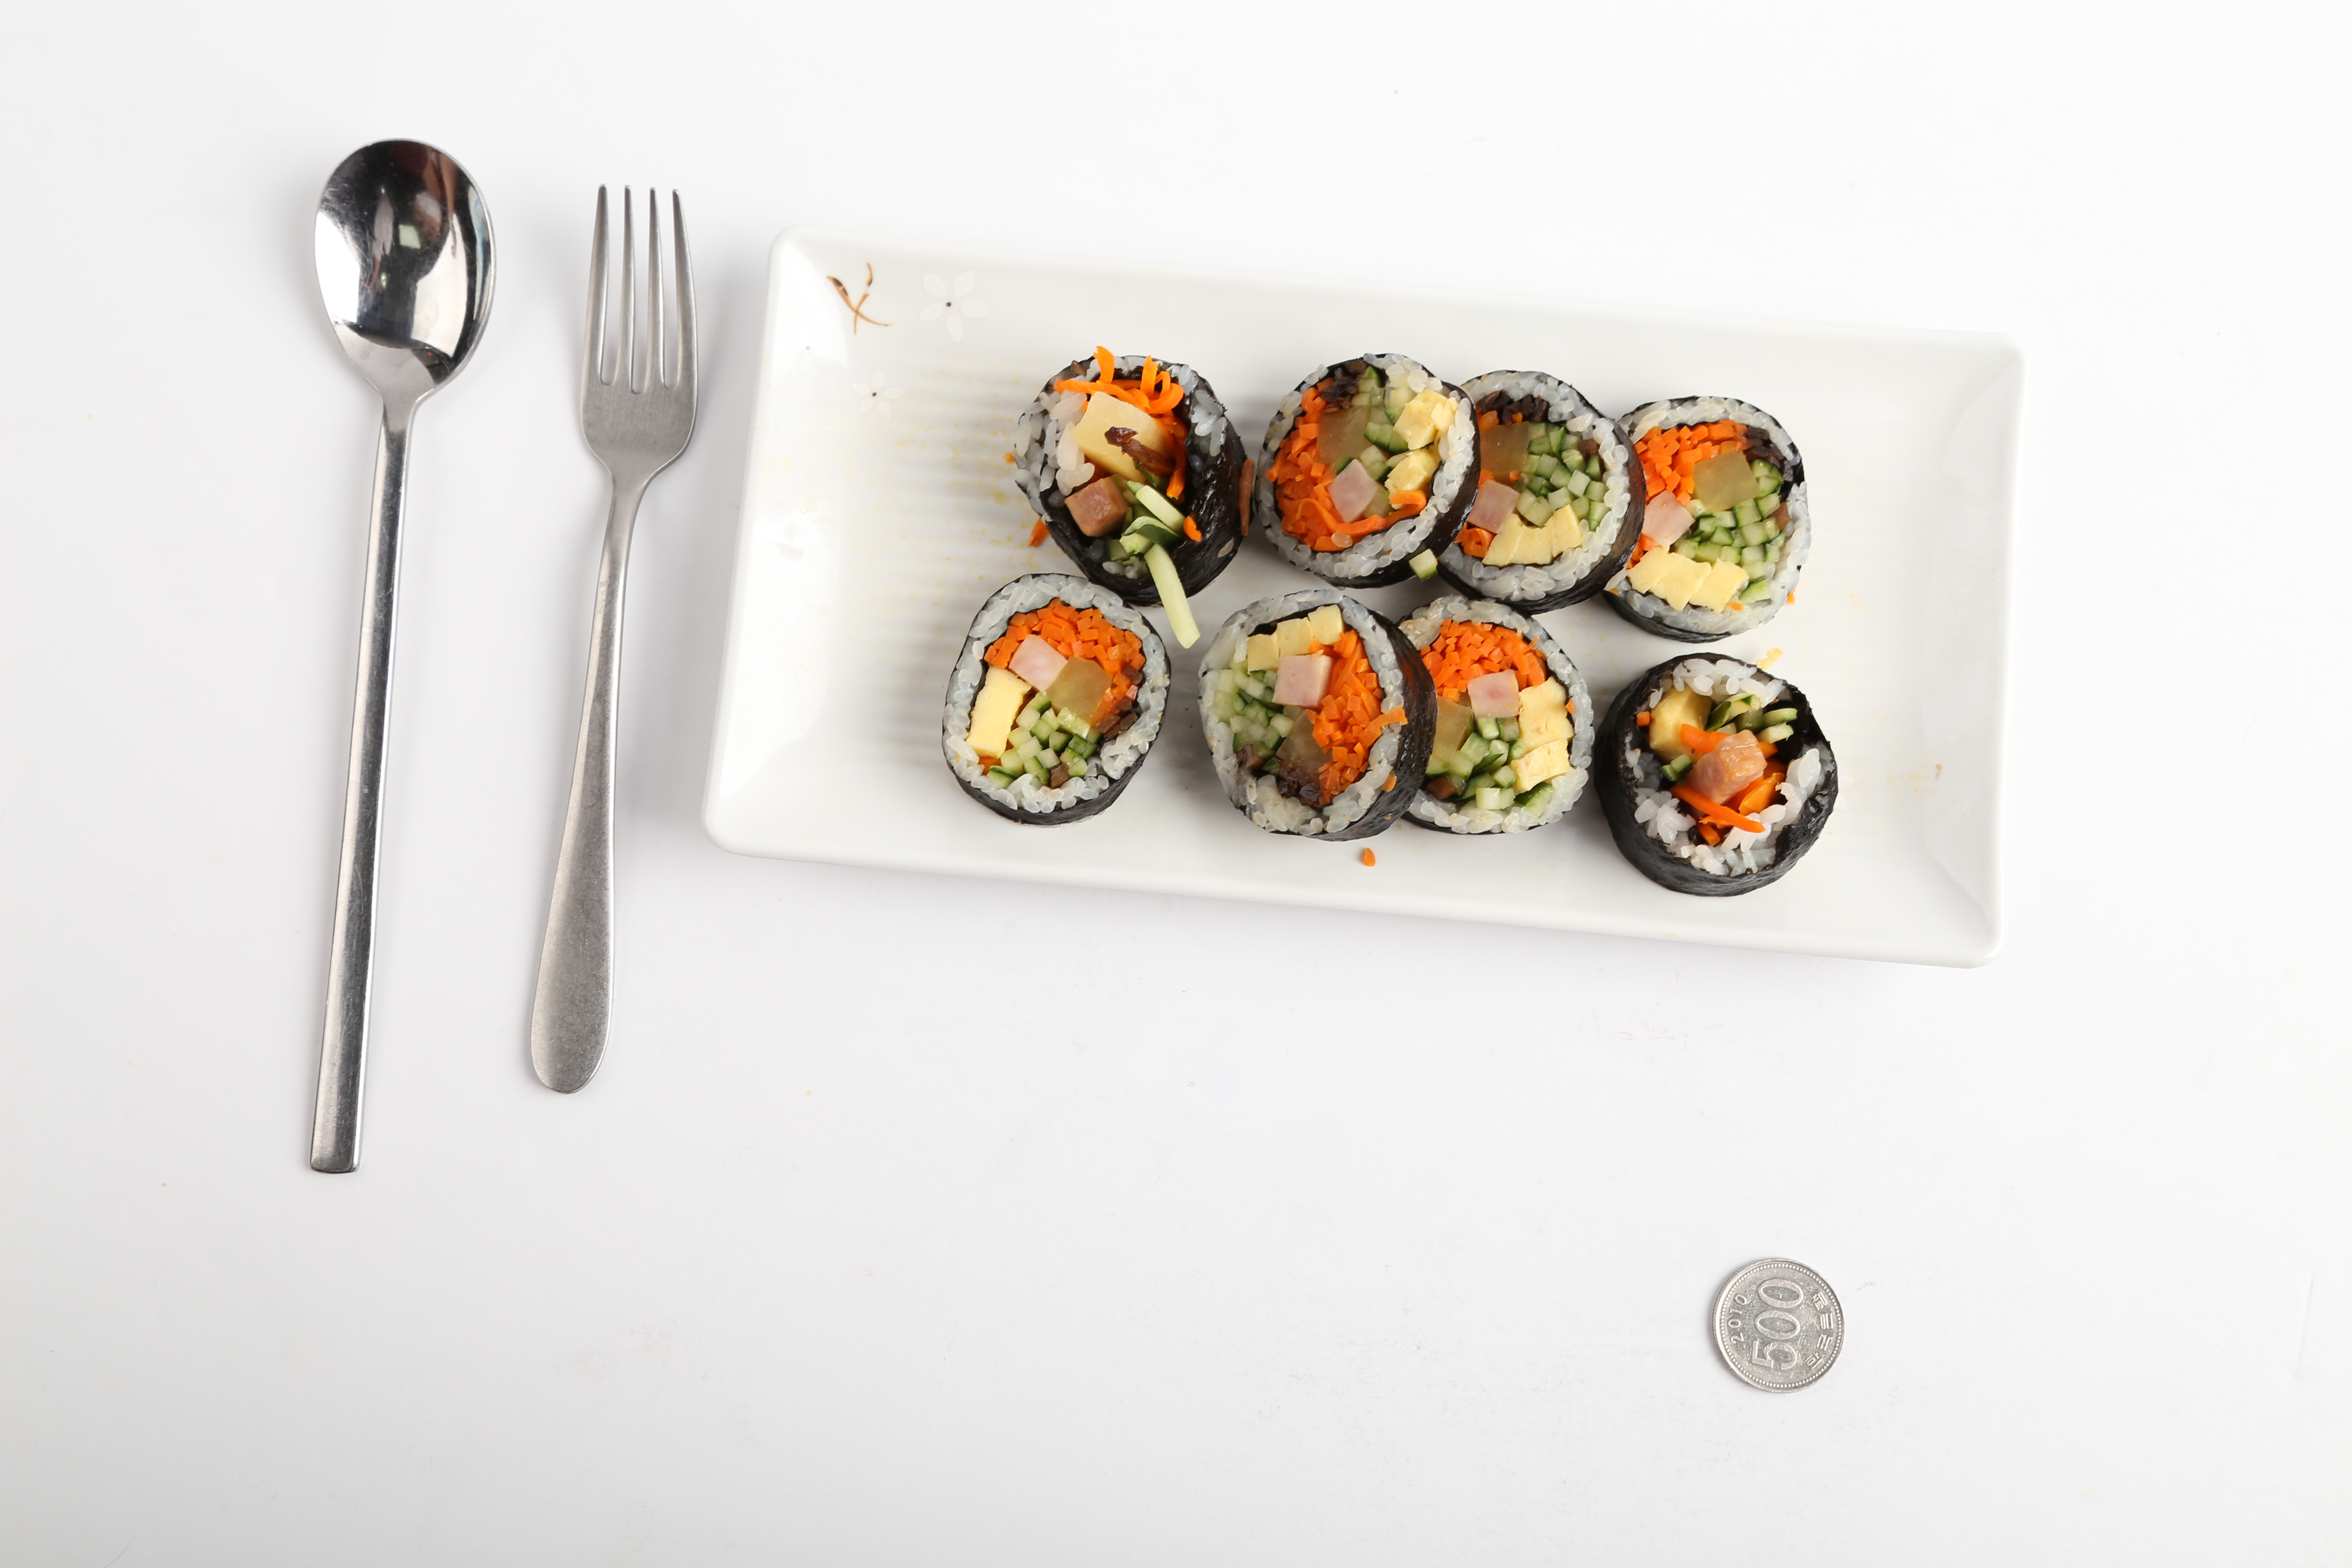dish: (700, 215, 2026, 968)
ref_coin: (1699, 1251, 1853, 1398)
ref_fork: (572, 180, 703, 518)
ref_spoon: (304, 135, 499, 462)
김밥: (936, 346, 1844, 903)
